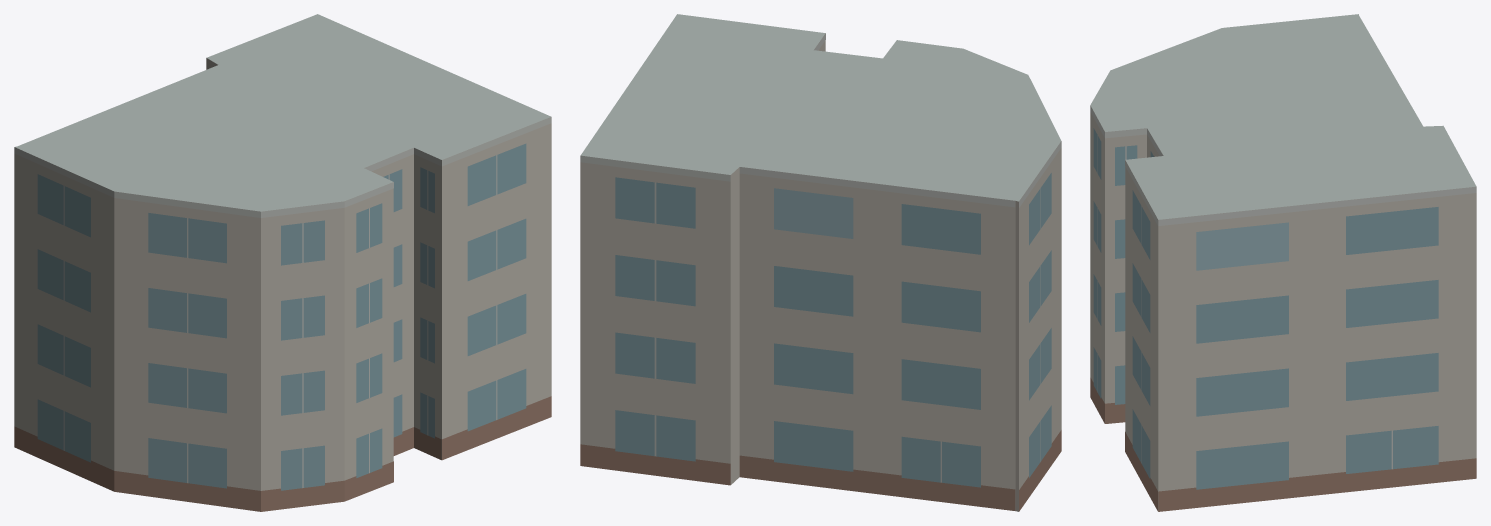
Rendered from survey-upis-33047584.glb.
3 renders of one model, left to right at view 1: azimuth 30°, elevation 25°; view 2: azimuth 150°, elevation 25°; view 3: azimuth 270°, elevation 25°, orthographic. The views are drawn at different scales.
Parts seen in each view (by area): view 1: survey-upis-33047584.tmp; view 2: survey-upis-33047584.tmp; view 3: survey-upis-33047584.tmp.
Boxes of the visible parts, box(x1,y1,x2,y2) form: survey-upis-33047584.tmp: box(14, 14, 551, 511); survey-upis-33047584.tmp: box(580, 14, 1061, 511); survey-upis-33047584.tmp: box(1090, 14, 1476, 511).
Size of the model in its own units: 17.17 by 11.35 by 13.62.
